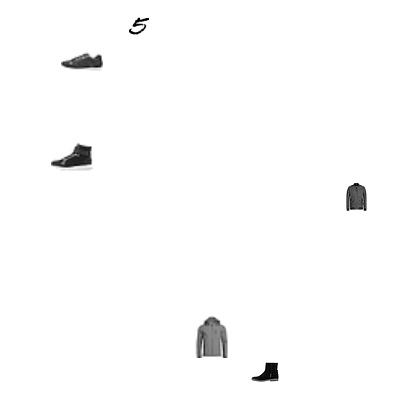4: (336, 116, 364, 144)
5: (178, 115, 192, 129)
Ankle_boot: (49, 310, 133, 394)
Dress: (68, 161, 152, 245)
Shirt: (261, 136, 373, 248)
Trouser: (167, 286, 195, 314)
